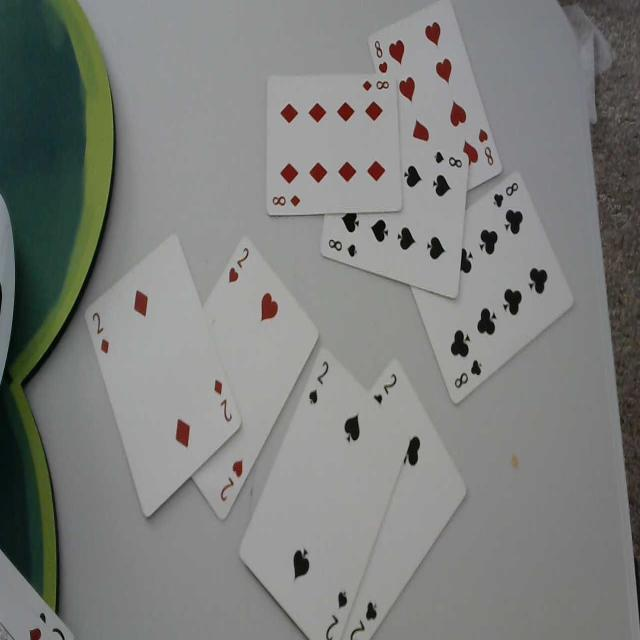2C: (348, 600, 382, 640)
2D: (214, 376, 235, 429)
2H: (218, 455, 246, 507), (228, 244, 249, 289)
2S: (323, 588, 350, 640), (309, 357, 330, 409)
8C: (453, 353, 483, 395), (492, 178, 518, 212)
8D: (270, 192, 302, 212), (360, 77, 392, 95)
8H: (478, 123, 494, 168), (374, 38, 391, 73)
8S: (434, 145, 463, 173), (328, 236, 358, 262)
QD: (92, 307, 110, 359)
